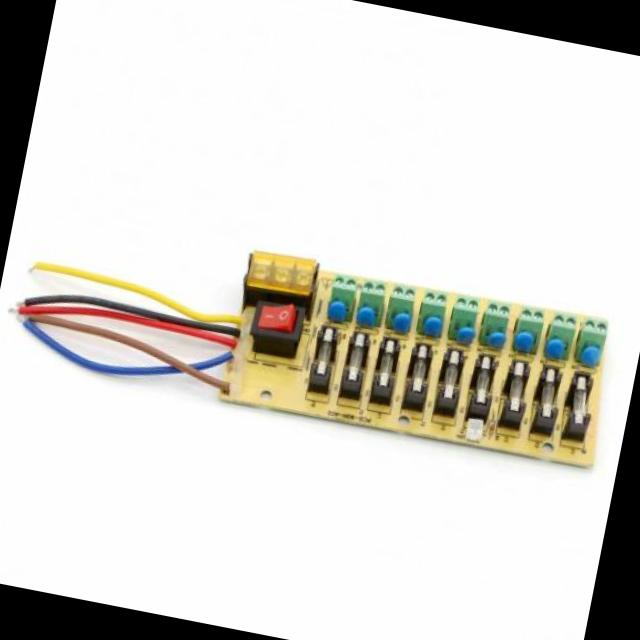connector: (510, 304, 550, 356), (446, 291, 484, 345), (544, 309, 580, 363), (383, 278, 419, 328), (576, 314, 612, 364), (479, 296, 514, 347), (417, 285, 451, 333), (325, 274, 359, 310), (358, 282, 388, 314)
